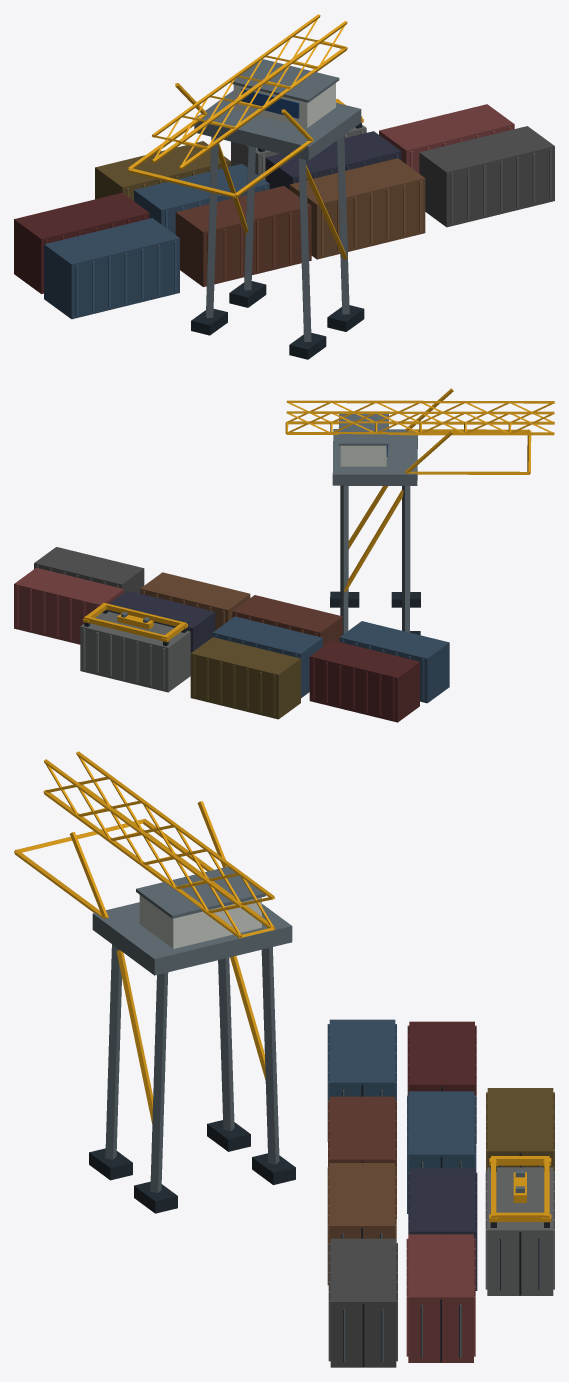
Rendered from SeaportSystem-02-ShipToShoreGantryCrane-01-20Footer-4-07.glb.
The picture shows the model from 3 angles, top to bottom: view 1: azimuth 30°, elevation 25°; view 2: azimuth 150°, elevation 25°; view 3: azimuth 270°, elevation 25°; orthographic projection. The views are drawn at different scales.
Parts seen in each view (by area): view 1: SeaportSystem-02-ShipToShoreGantryCrane-01-20Footer-4-07; view 2: SeaportSystem-02-ShipToShoreGantryCrane-01-20Footer-4-07; view 3: SeaportSystem-02-ShipToShoreGantryCrane-01-20Footer-4-07.
Part boxes in pixels (left/top/right/bottom): SeaportSystem-02-ShipToShoreGantryCrane-01-20Footer-4-07: left=14, top=14, right=554, bottom=359; SeaportSystem-02-ShipToShoreGantryCrane-01-20Footer-4-07: left=14, top=388, right=554, bottom=722; SeaportSystem-02-ShipToShoreGantryCrane-01-20Footer-4-07: left=14, top=751, right=554, bottom=1367.
Size of the model in its own units: 62.15 by 31.18 by 47.77.
